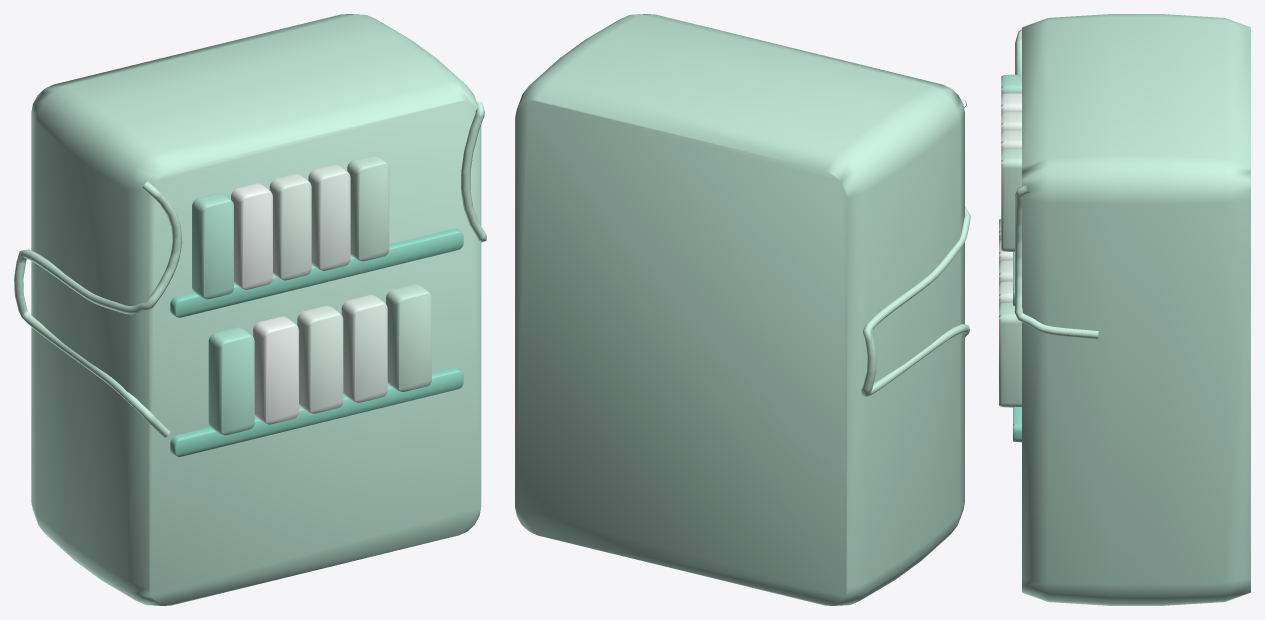
File: decor_6_mint.glb
3 renders of one model, left to right at view 1: azimuth 30°, elevation 25°; view 2: azimuth 150°, elevation 25°; view 3: azimuth 270°, elevation 25°, orthographic. The views are drawn at different scales.
Parts seen in each view (by area): view 1: decor_6_mint; view 2: decor_6_mint; view 3: decor_6_mint.
Boxes of the visible parts, bbox=[...] form: decor_6_mint: bbox=[14, 14, 486, 605]; decor_6_mint: bbox=[515, 14, 970, 605]; decor_6_mint: bbox=[999, 14, 1250, 605].
Bounding box in the file's own units: 13.36 × 15.84 × 8.08.
